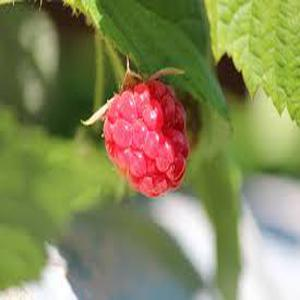duino: (101, 75, 191, 198)
